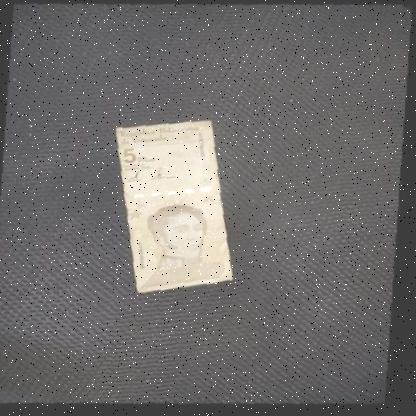five-front-vef: (110, 120, 242, 295)
